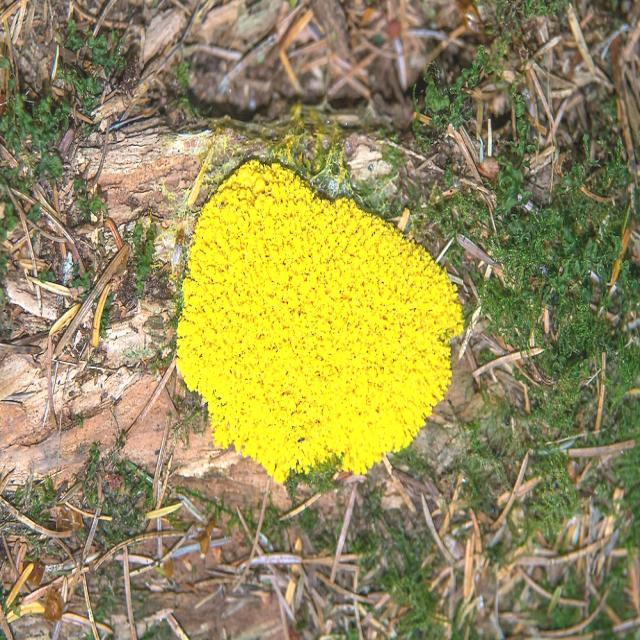Dog_vomit_slime_mold: (160, 143, 472, 529)
